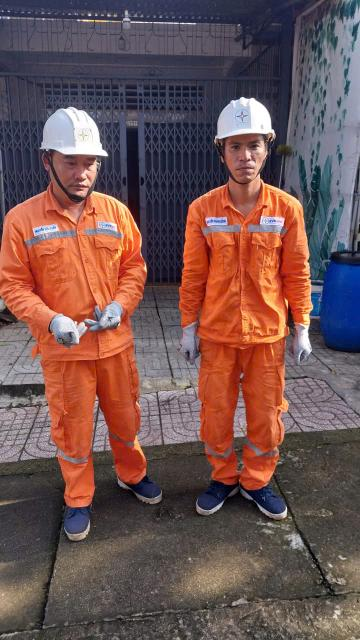gloves: (39, 308, 93, 356), (83, 299, 130, 338), (166, 322, 202, 370), (290, 316, 316, 368)
helmet: (32, 97, 114, 164), (205, 97, 284, 149)
shoes: (229, 473, 295, 534), (111, 465, 172, 514), (190, 472, 243, 521), (52, 497, 98, 545)
